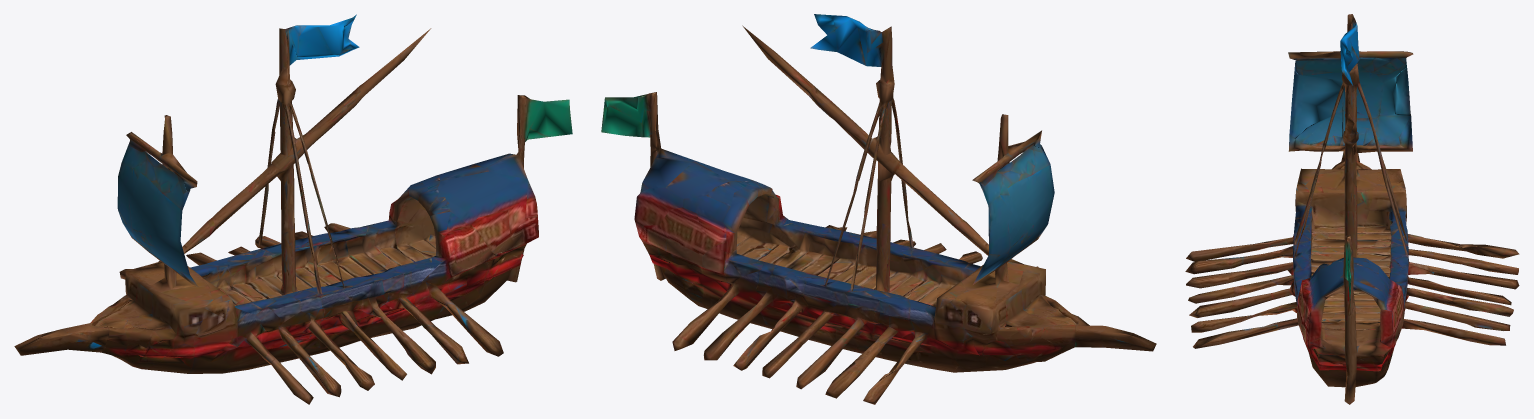
The model's file is m_galley.glb.
The picture shows the model from 3 angles, left to right: view 1: azimuth 30°, elevation 25°; view 2: azimuth 150°, elevation 25°; view 3: azimuth 270°, elevation 25°; orthographic projection. The views are drawn at different scales.
Bounding box in the file's own units: 0.9976 × 0.541 × 0.5653.
1 material, 1 textured.
